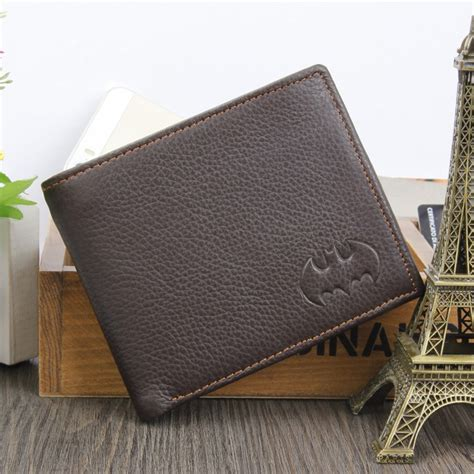cuero: (41, 65, 424, 425)
